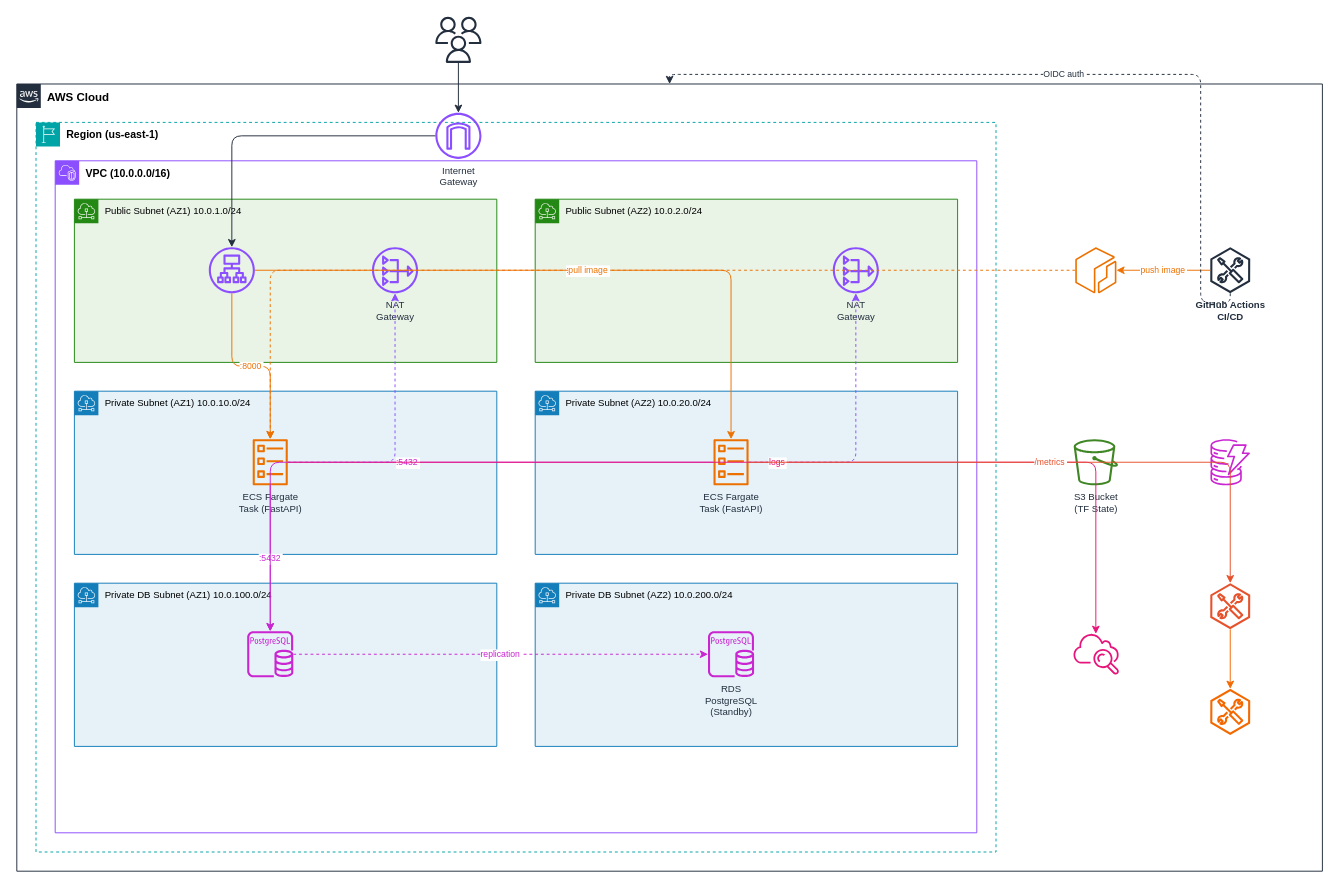
This 1339x888 diagram has some shape labels left out. Here are the shapes that lost their labels. From the top down, the centre of each, then its label:
the point at 458,39: Users
the point at 231,270: Application Load Balancer
the point at 1095,270: Amazon ECR
the point at 1230,462: DynamoDB (State Lock)
the point at 1230,606: Prometheus
the point at 270,654: RDS PostgreSQL (Primary)
the point at 1095,654: CloudWatch Logs
the point at 1230,711: Grafana
